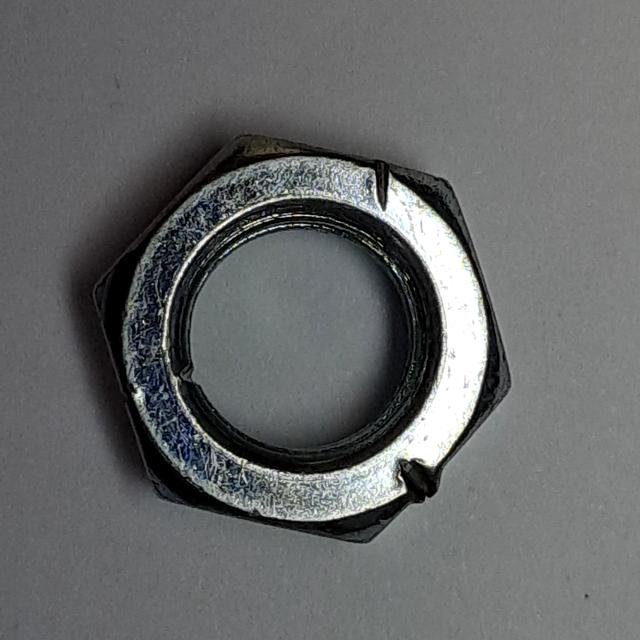Scratches: (79, 119, 532, 564)
